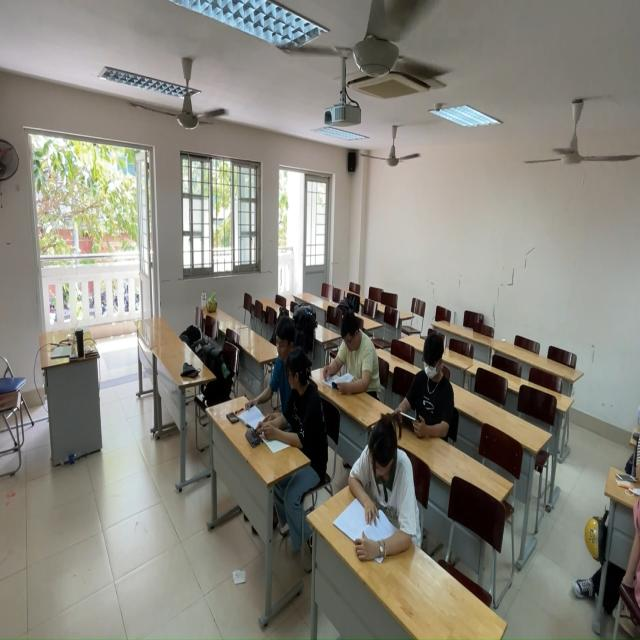read: (348, 406, 427, 569), (258, 350, 329, 478), (387, 332, 460, 449), (229, 312, 303, 419), (320, 309, 386, 396)
